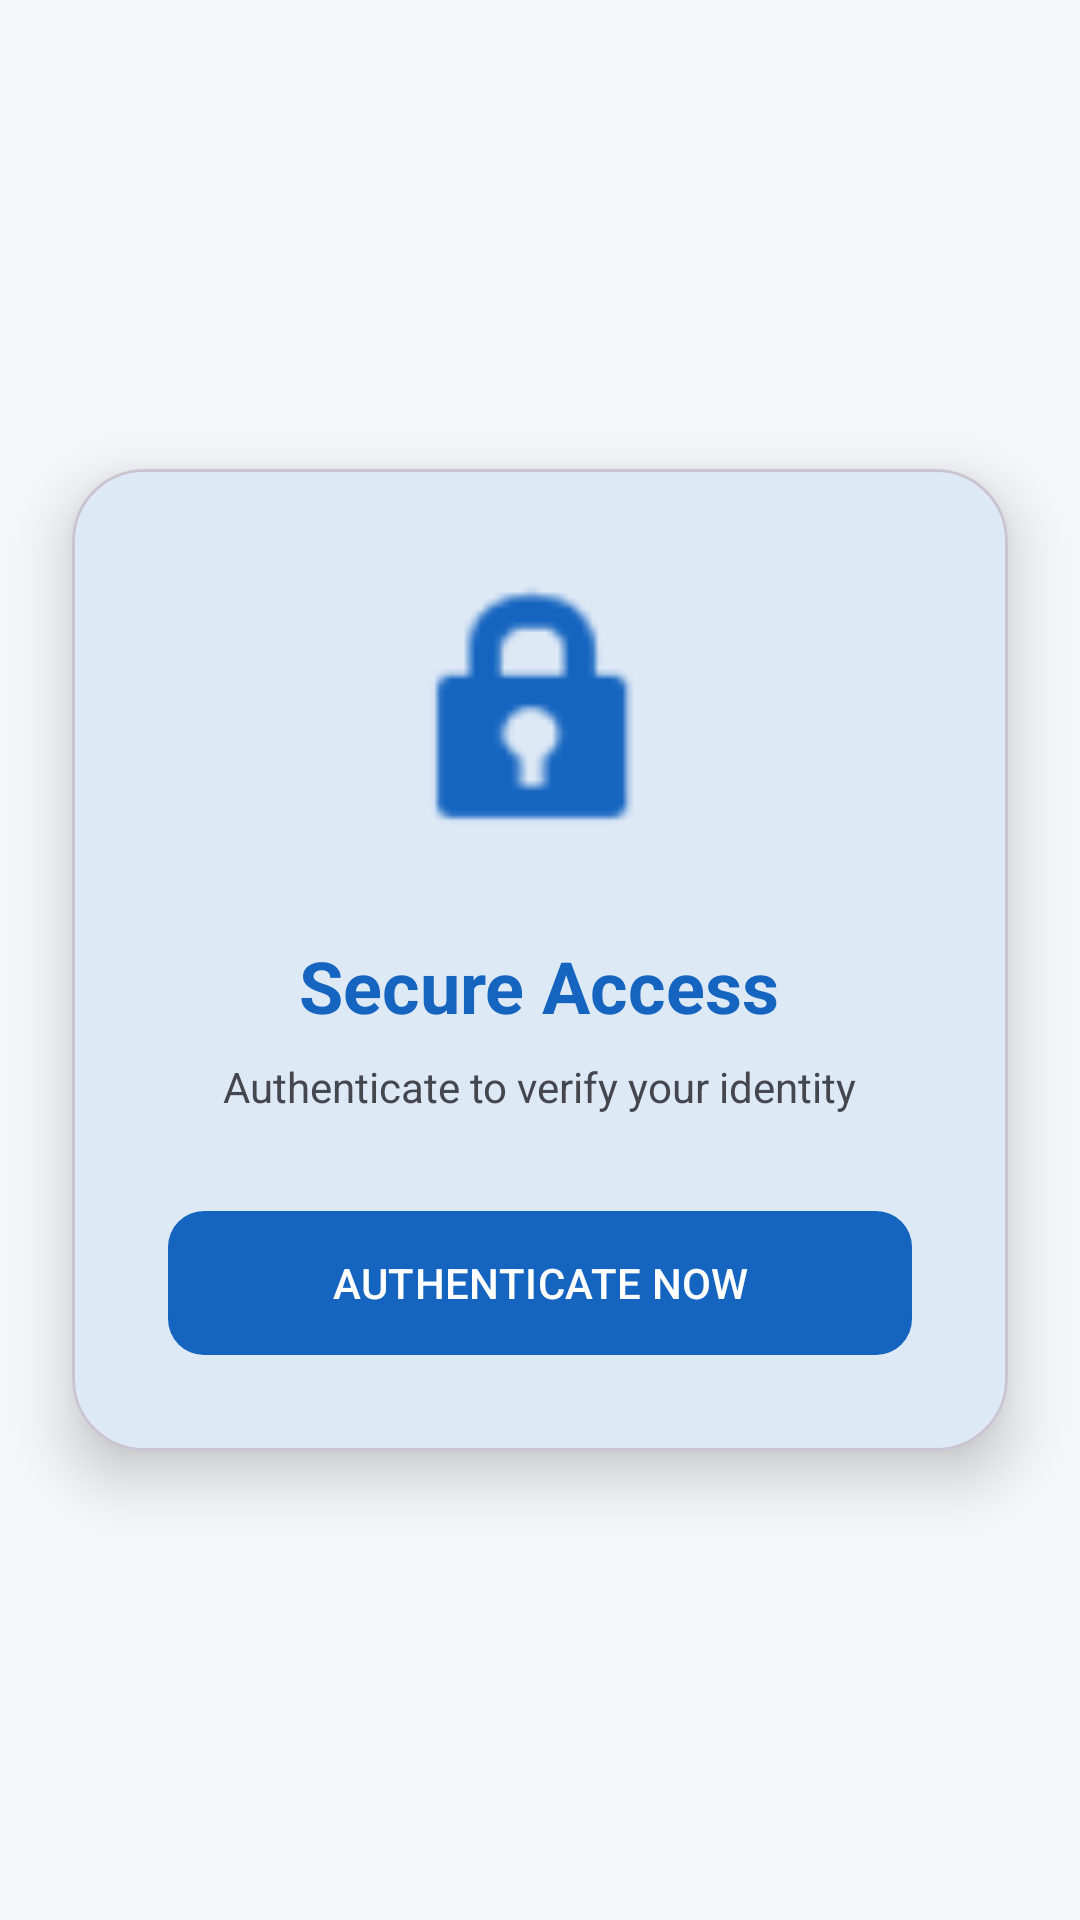

Screen size 1080*1920. Icon name, then its center in pixels as point (x, y):
lock idle: point (533, 705)
